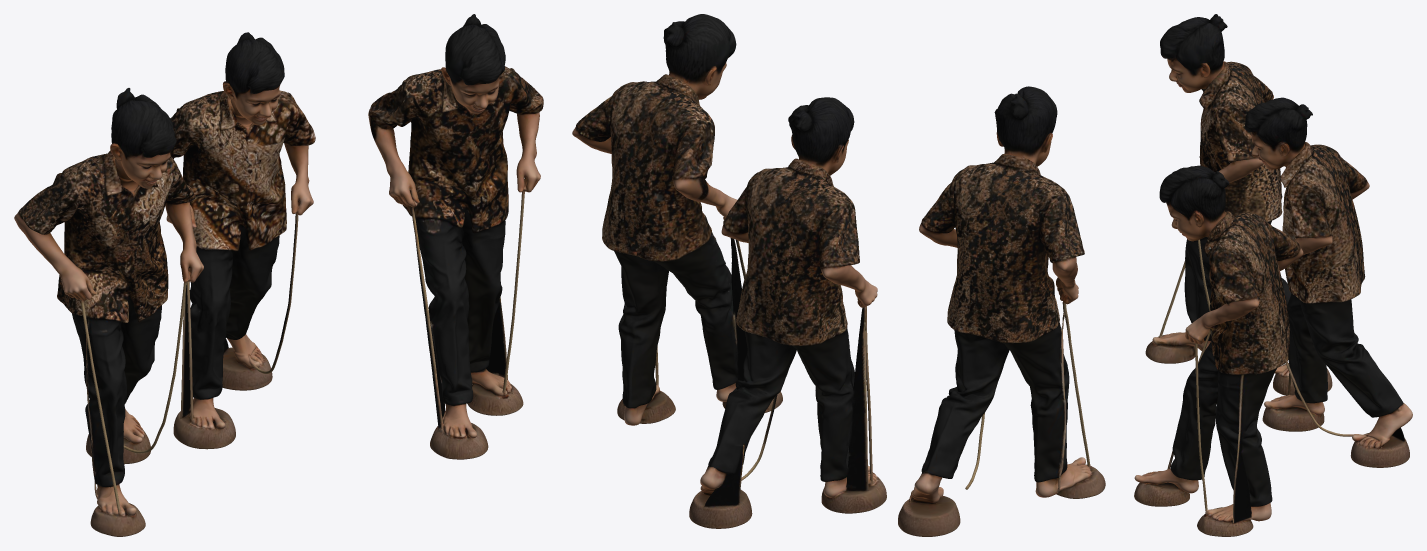
File: dolanan thuprok.glb
The picture shows the model from 3 angles, left to right: view 1: azimuth 30°, elevation 25°; view 2: azimuth 150°, elevation 25°; view 3: azimuth 270°, elevation 25°; orthographic projection. The views are drawn at different scales.
Parts seen in each view (by area): view 1: tripo_node_37033a69-3db6-49ea-ab6d-a168aa2e7a5e; view 2: tripo_node_37033a69-3db6-49ea-ab6d-a168aa2e7a5e; view 3: tripo_node_37033a69-3db6-49ea-ab6d-a168aa2e7a5e.
Boxes of the visible parts, <box> form: tripo_node_37033a69-3db6-49ea-ab6d-a168aa2e7a5e: <box>14,14,543,536</box>; tripo_node_37033a69-3db6-49ea-ab6d-a168aa2e7a5e: <box>572,14,1105,536</box>; tripo_node_37033a69-3db6-49ea-ab6d-a168aa2e7a5e: <box>1134,14,1412,536</box>.
Bounding box in the file's own units: 1 × 0.7637 × 0.542.
1 material, 1 textured.
